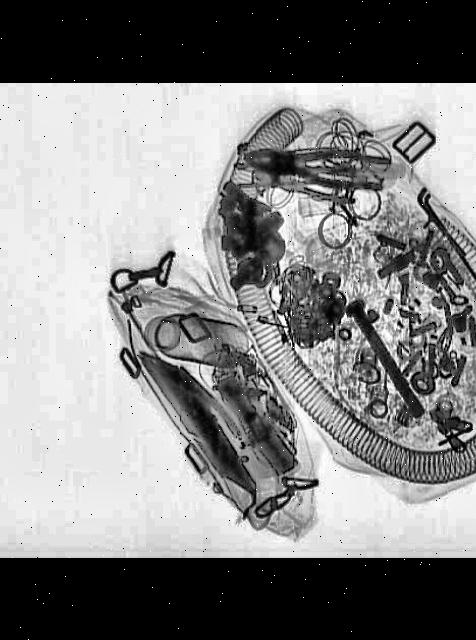Pliers: (240, 137, 392, 195), (248, 157, 362, 206)
